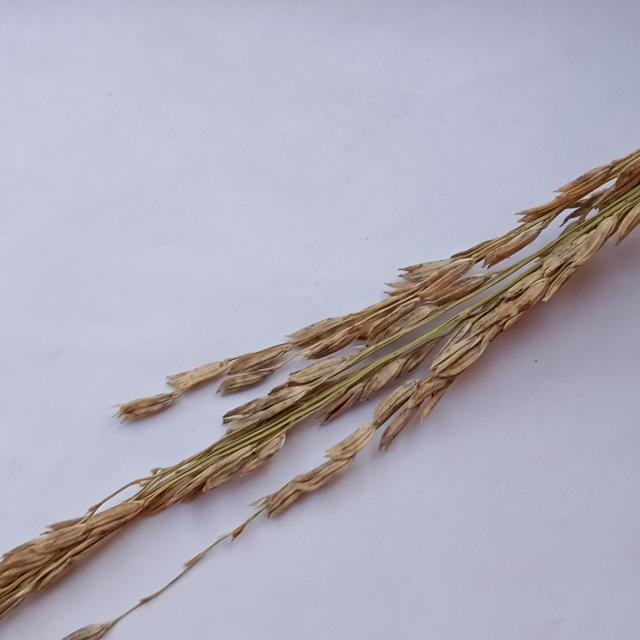Neck_Blast: (1, 190, 640, 620), (115, 154, 640, 429)
